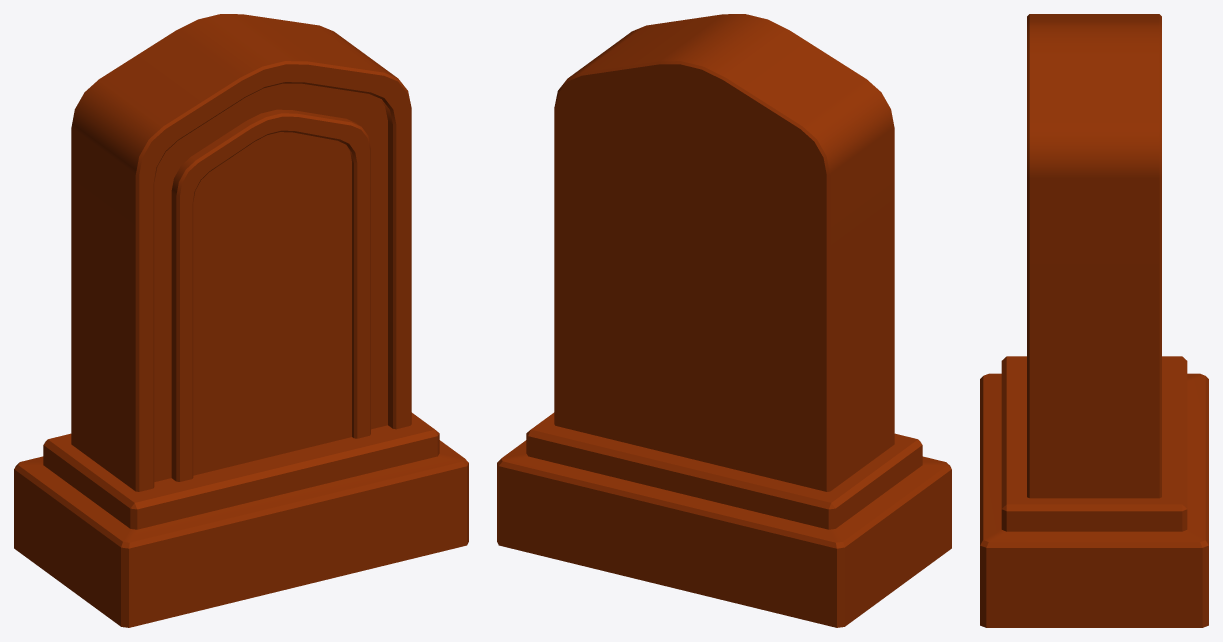
File: Tomb_04.fbx
3 renders of one model, left to right at view 1: azimuth 30°, elevation 25°; view 2: azimuth 150°, elevation 25°; view 3: azimuth 270°, elevation 25°, orthographic.
Parts seen in each view (by area): view 1: Tomb_04; view 2: Tomb_04; view 3: Tomb_04.
Boxes of the visible parts, box(x1,y1,x2,y2) form: Tomb_04: box(14, 14, 468, 627); Tomb_04: box(497, 14, 951, 627); Tomb_04: box(980, 14, 1208, 627).
Size of the model in its own units: 0.7739 by 1.07 by 0.4366.
